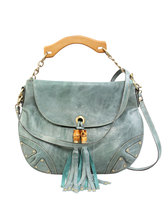bag: (7, 38, 165, 193)
